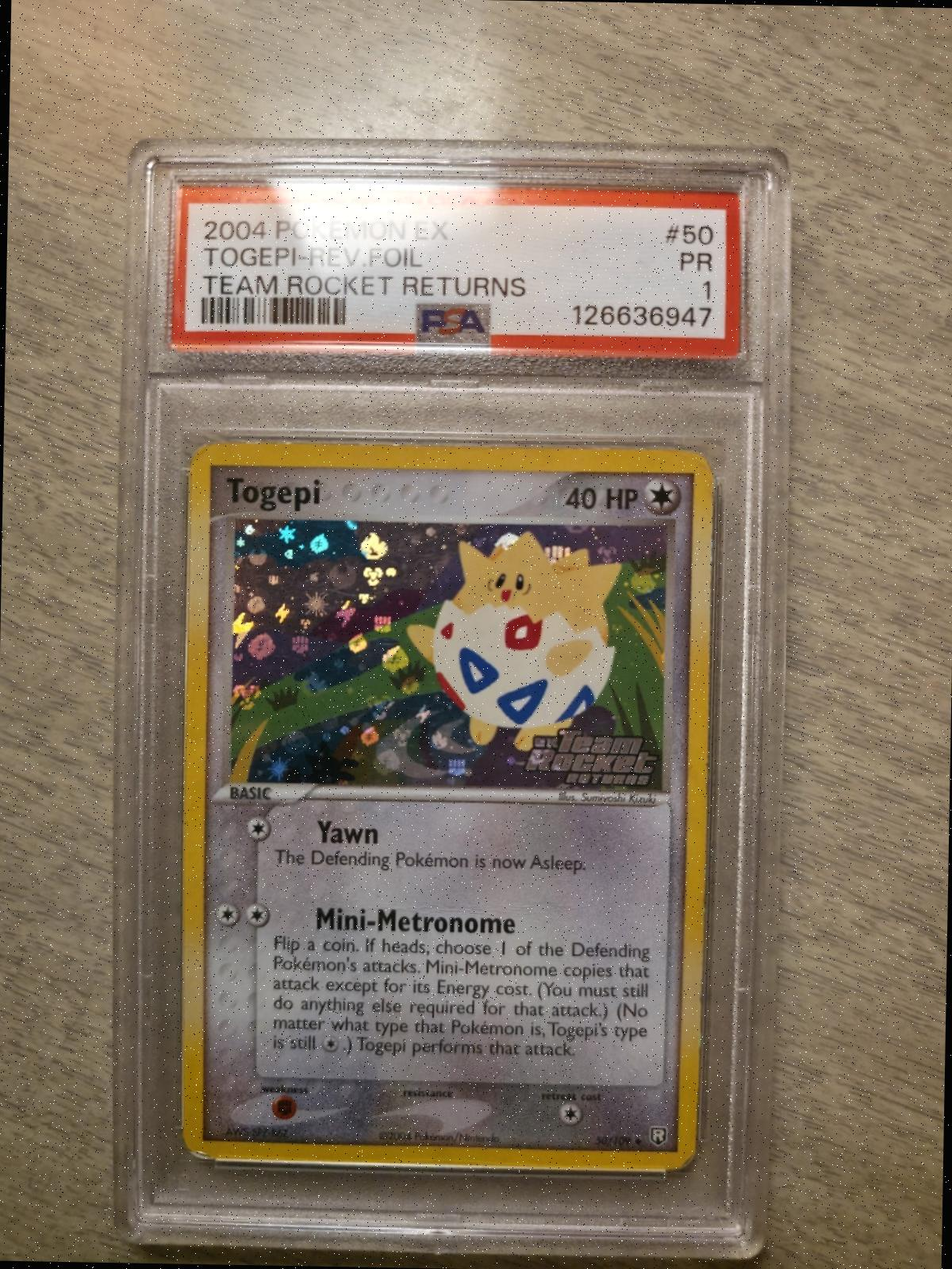card-2UtV: (181, 441, 714, 1170)
